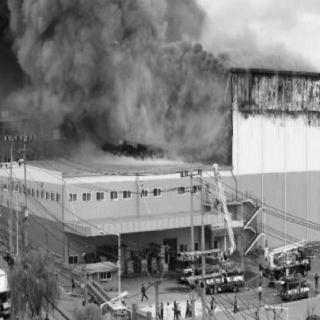Smoke: (126, 6, 222, 62)
